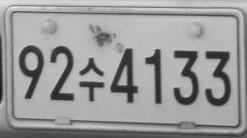1: (142, 48, 170, 104)
2: (49, 45, 75, 101)
3: (204, 49, 232, 107), (173, 49, 199, 106)
4: (109, 47, 138, 103)
9: (17, 44, 45, 99)
수: (78, 56, 105, 102)
